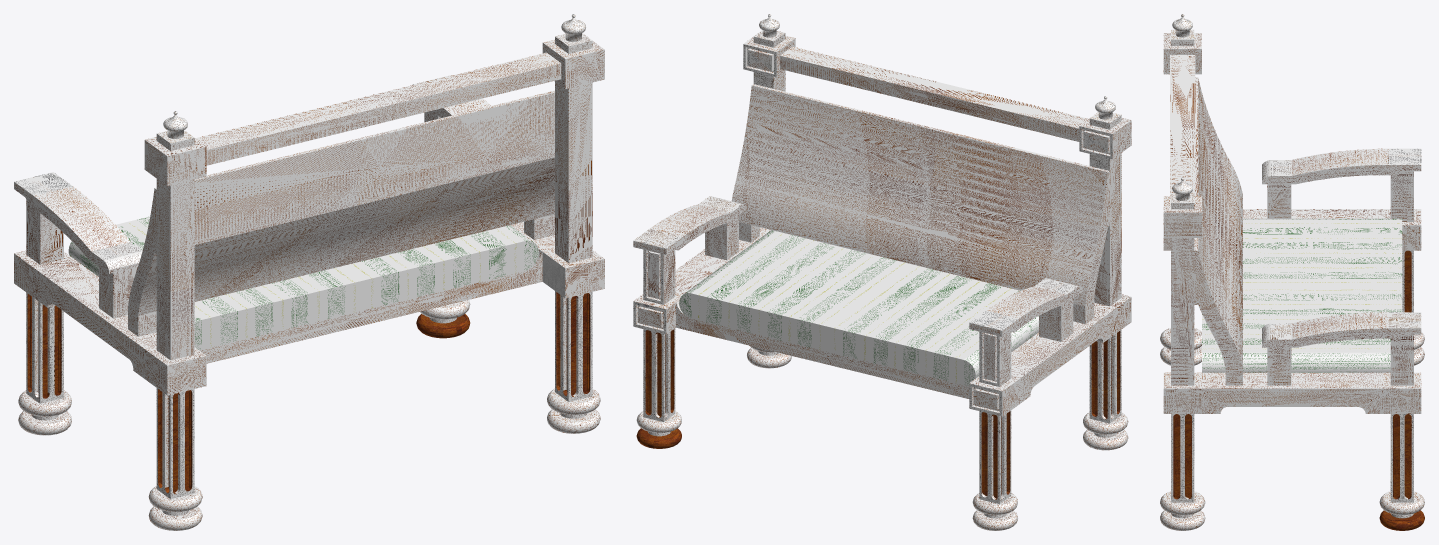
3 renders of one model, left to right at view 1: azimuth 30°, elevation 25°; view 2: azimuth 150°, elevation 25°; view 3: azimuth 270°, elevation 25°, orthographic. The views are drawn at different scales.
Parts seen in each view (by area): view 1: mesh1_mesh1-geometry; view 2: mesh1_mesh1-geometry; view 3: mesh1_mesh1-geometry.
Part boxes in pixels (x1,y1,x2,y2): mesh1_mesh1-geometry: (14,14,604,530); mesh1_mesh1-geometry: (633,14,1131,530); mesh1_mesh1-geometry: (1160,14,1424,530).
Bounding box in the file's own units: 0.6817 × 0.6005 × 0.4178.
